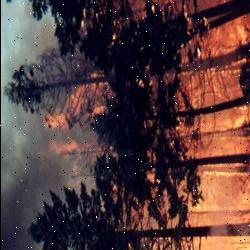fire: (180, 32, 250, 250)
